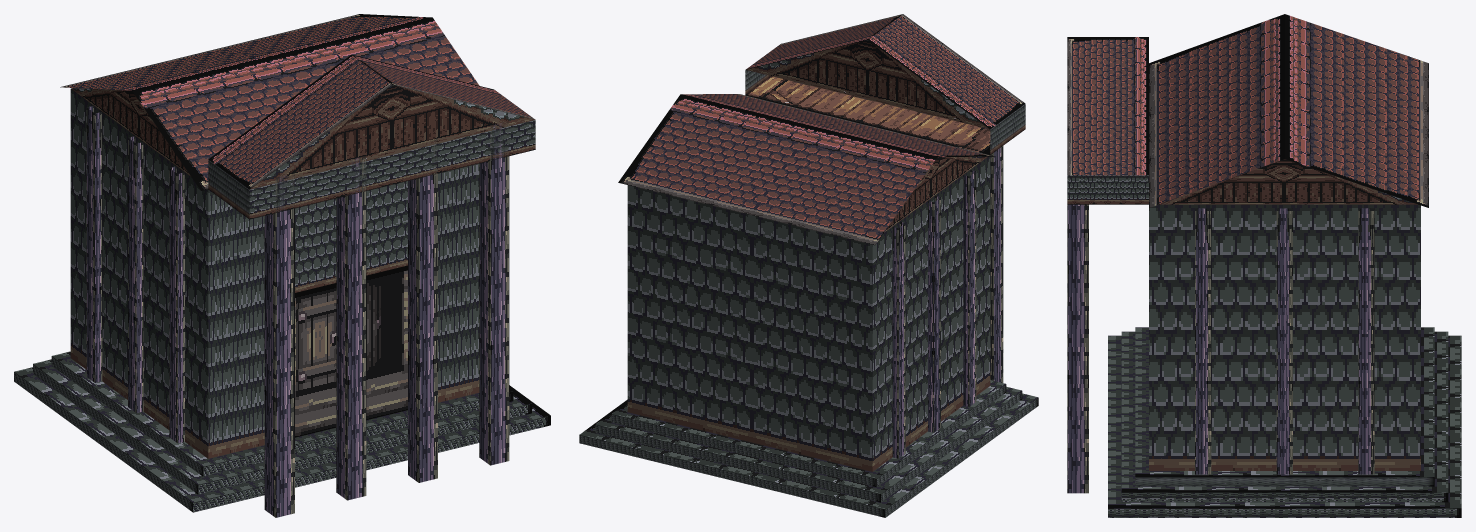
File: temple_time.glb
3 views of the same model, side by side, from view 1: azimuth 30°, elevation 25°; view 2: azimuth 150°, elevation 25°; view 3: azimuth 270°, elevation 25° (orthographic). The views are drawn at different scales.
Parts seen in each view (by area): view 1: Wall_Left, Roof_F, Wall_FL, Door, Pediment_F, Wall_FR, PedRoof_L, Entab_F, Wall_FTop, Roof_B, Col3_F, Col1_F (+24 smaller); view 2: Wall_Back, Roof_B, Wall_Left, Pediment_B, PedRoof_L, Entab_Bottom, Roof_F, Step0_Top, Step1_Top, Step2_Top, Step0_B, Step1_B (+15 smaller); view 3: Wall_Right, Roof_B, Roof_F, PedRoof_R, Step1_Top, Step0_Top, Col3_R, Gable_R, Step2_Top, PilR0_O, PilR1_O, PilR2_O (+4 smaller).
Boxes of the visible parts, left/top/right/bottom form: Wall_Left: left=70, top=89, right=208, bottom=458; Roof_F: left=132, top=17, right=479, bottom=190; Wall_FL: left=208, top=189, right=264, bottom=458; Door: left=295, top=265, right=407, bottom=437; Pediment_F: left=250, top=85, right=535, bottom=189; Wall_FR: left=438, top=163, right=479, bottom=402; PedRoof_L: left=208, top=54, right=392, bottom=189; Entab_F: left=249, top=120, right=535, bottom=219; Wall_FTop: left=295, top=181, right=407, bottom=292; Roof_B: left=60, top=14, right=432, bottom=90; Col3_F: left=490, top=121, right=509, bottom=465; Col1_F: left=347, top=156, right=366, bottom=500; Wall_Back: left=627, top=185, right=872, bottom=471; Roof_B: left=618, top=94, right=937, bottom=245; Wall_Left: left=872, top=156, right=990, bottom=471; Pediment_B: left=746, top=40, right=989, bottom=129; PedRoof_L: left=868, top=14, right=1025, bottom=129; Entab_Bottom: left=746, top=76, right=990, bottom=154; Roof_F: left=681, top=94, right=995, bottom=156; Step0_Top: left=579, top=393, right=1037, bottom=509; Step1_Top: left=596, top=386, right=1021, bottom=493; Step2_Top: left=612, top=380, right=1005, bottom=478; Step0_B: left=579, top=435, right=885, bottom=517; Step1_B: left=595, top=424, right=880, bottom=502; Wall_Right: left=1149, top=204, right=1420, bottom=470; Roof_B: left=1285, top=14, right=1428, bottom=207; Roof_F: left=1149, top=14, right=1284, bottom=207; PedRoof_R: left=1067, top=37, right=1148, bottom=175; Step1_Top: left=1121, top=331, right=1448, bottom=492; Step0_Top: left=1108, top=335, right=1461, bottom=507; Col3_R: left=1067, top=204, right=1088, bottom=493; Gable_R: left=1159, top=159, right=1417, bottom=204; Step2_Top: left=1135, top=327, right=1434, bottom=476; PilR0_O: left=1195, top=208, right=1211, bottom=474; PilR1_O: left=1276, top=208, right=1292, bottom=474; PilR2_O: left=1358, top=208, right=1374, bottom=474.
Size of what is drawn, in the model's own units: 15 by 16.21 by 14.5.
1 material, 1 textured.
